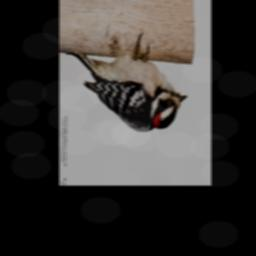Woodpecker: (83, 27, 189, 136)
